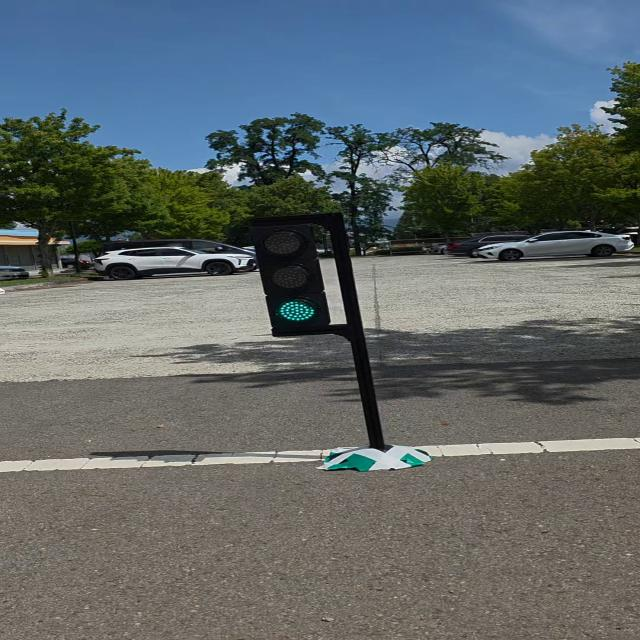green: (255, 217, 330, 335)
